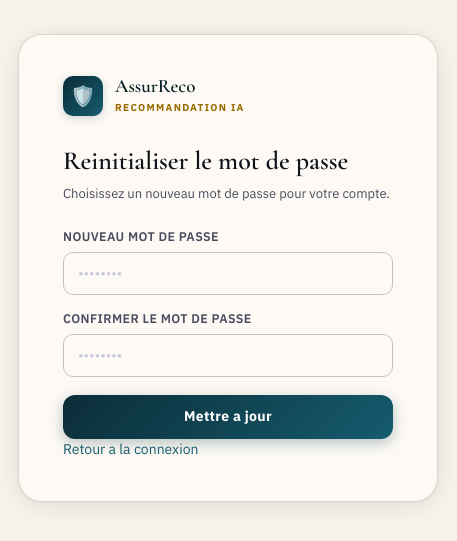
Scenario: ResetPassword › shows error when passwords do not match
Type "password123" into the password field with placeholder "••••••••" at point(228, 273), box [63,252,393,294]
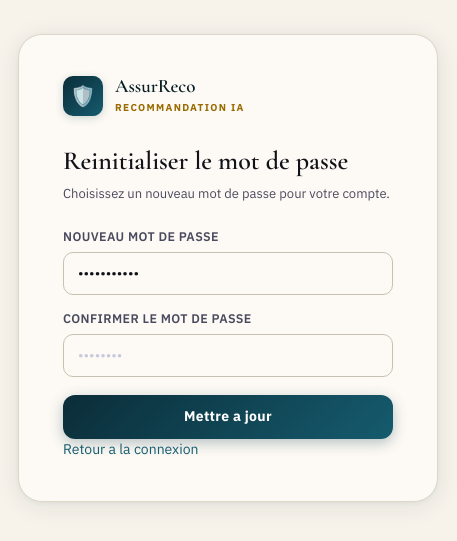
Type "password456" into the password field with placeholder "••••••••" at point(228, 355), box [63,334,393,376]
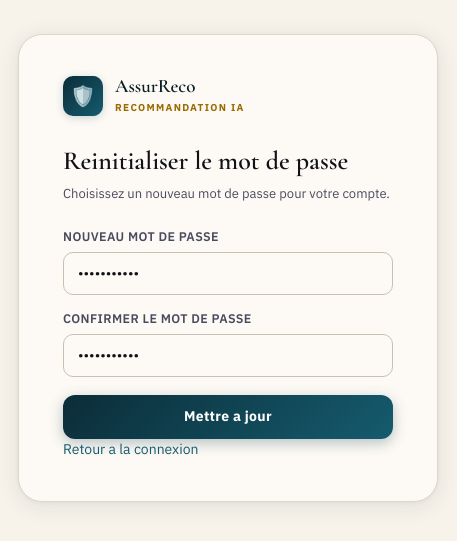
Click the button "Mettre a jour" at point(228, 416), box [63,394,393,438]
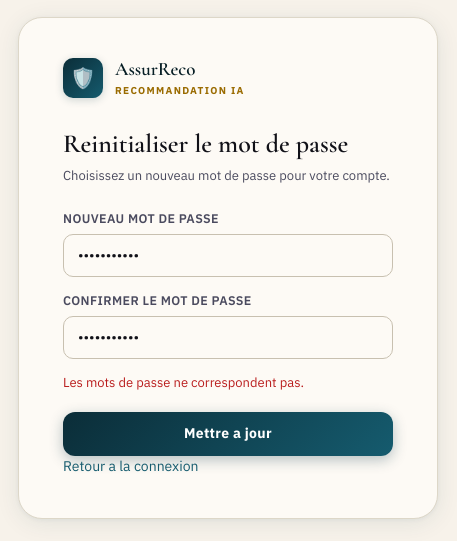
Now the text "Les mots de passe ne correspondent pas." is shown, box [63,373,304,392]
